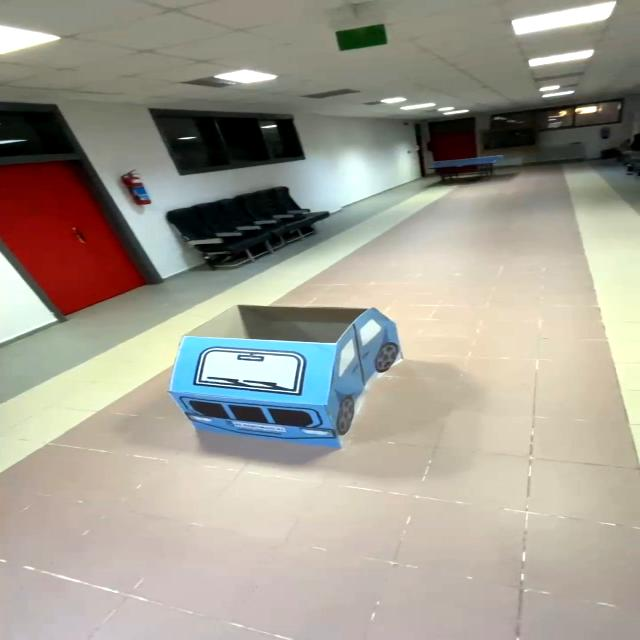blue_car: (151, 283, 414, 459)
